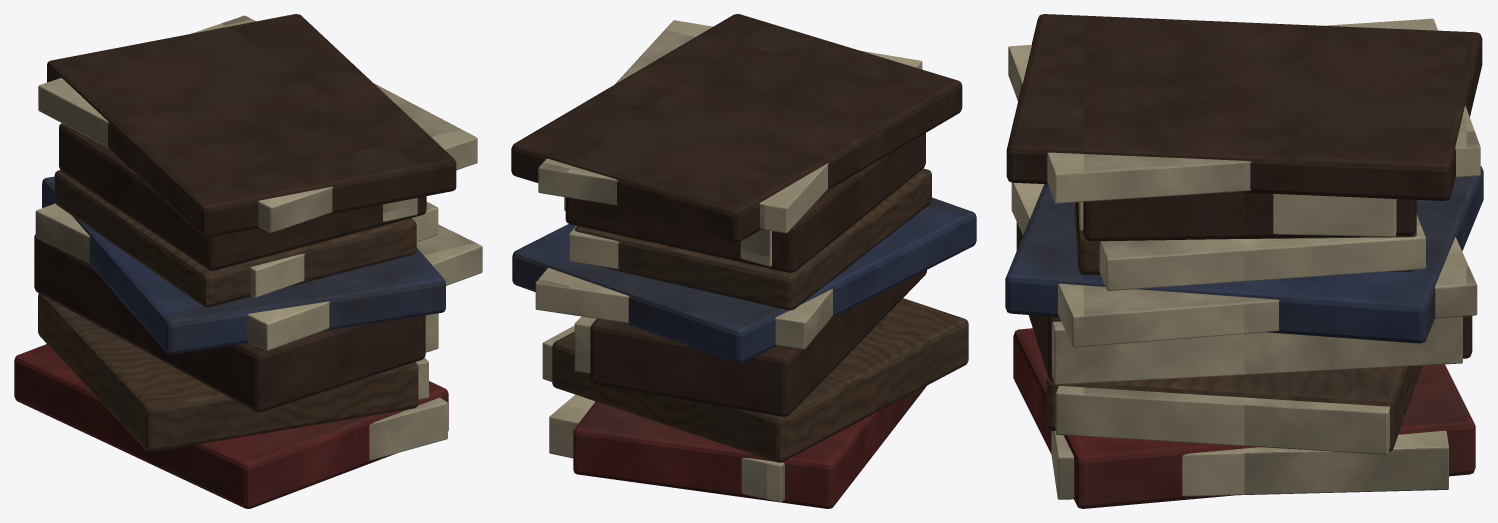
File: S12_stack_of_books.glb
The picture shows the model from 3 angles, left to right: view 1: azimuth 30°, elevation 25°; view 2: azimuth 150°, elevation 25°; view 3: azimuth 270°, elevation 25°; orthographic projection. The views are drawn at different scales.
Visible parts, largest first — view 1: S12_stack_of_books; view 2: S12_stack_of_books; view 3: S12_stack_of_books.
Part boxes in pixels (box(x1,y1,x2,y2)): S12_stack_of_books: box(14, 14, 482, 508); S12_stack_of_books: box(511, 14, 976, 508); S12_stack_of_books: box(1005, 14, 1483, 508).
Bounding box in the file's own units: 0.2722 × 0.2432 × 0.3.
Materials: 5 (5 with a texture image).
